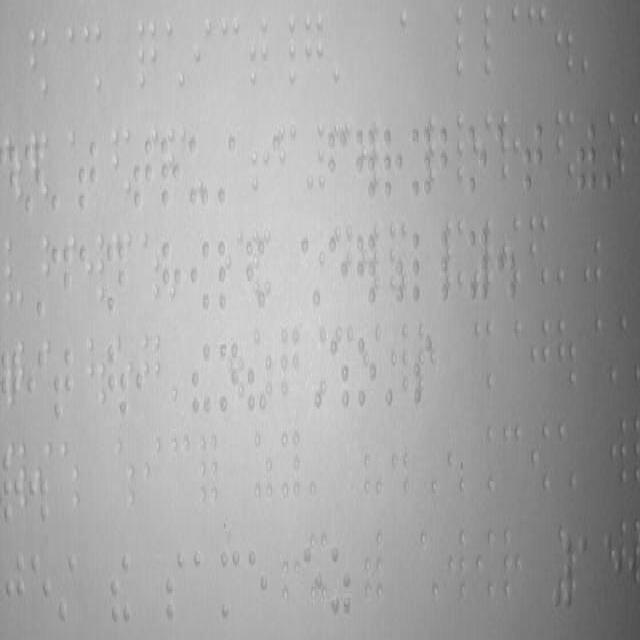braiile: (243, 544, 269, 629), (192, 546, 216, 636), (76, 134, 102, 214), (165, 542, 188, 631), (218, 544, 242, 629), (522, 119, 546, 201), (5, 546, 29, 628), (408, 124, 432, 204), (412, 229, 436, 309), (50, 244, 74, 324), (51, 346, 75, 426), (30, 549, 54, 629), (0, 452, 24, 530), (105, 240, 129, 316), (329, 541, 351, 623), (437, 122, 459, 202), (132, 136, 154, 214), (382, 125, 404, 203), (328, 232, 350, 310), (327, 127, 348, 205), (26, 346, 46, 424), (1, 142, 20, 222)
